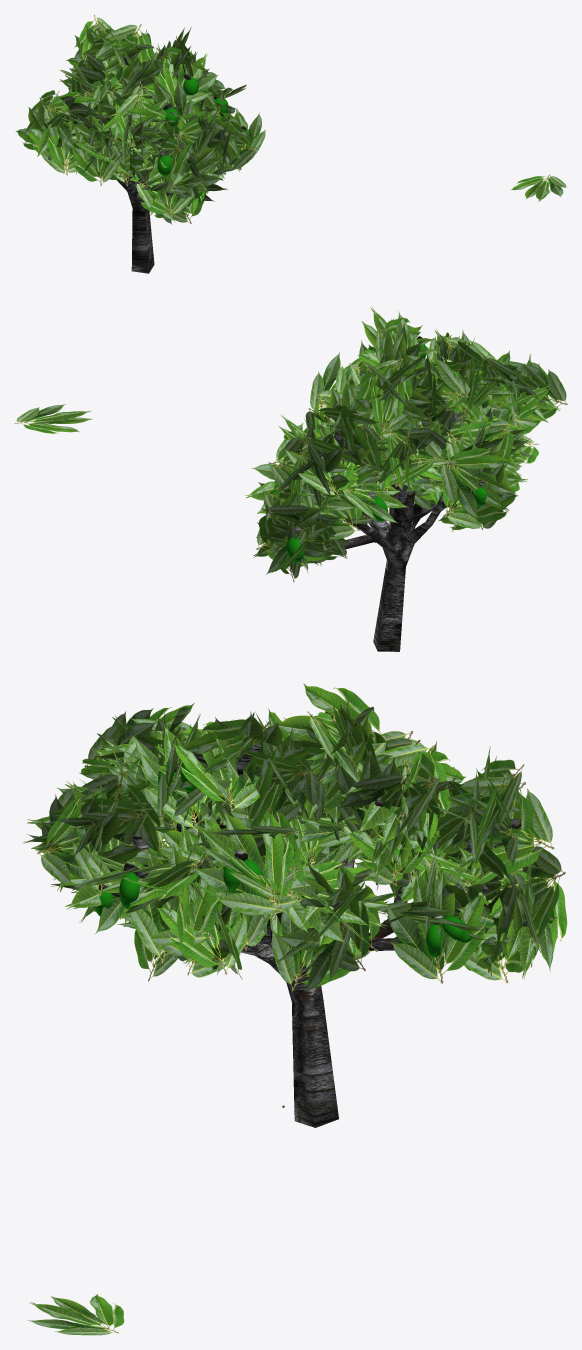
The model's file is mango_tree.glb.
The picture shows the model from 3 angles, top to bottom: view 1: azimuth 30°, elevation 25°; view 2: azimuth 150°, elevation 25°; view 3: azimuth 270°, elevation 25°; orthographic projection. The views are drawn at different scales.
Parts seen in each view (by area): view 1: ใบมะม่วง (×36), Cube; view 2: ใบมะม่วง (×44), Cube; view 3: ใบมะม่วง (×54), Cube.
Boxes of the visible parts, bbox=[...] form: ใบมะม่วง (×36): bbox=[15, 14, 566, 221]; Cube: bbox=[44, 55, 246, 273]; ใบมะม่วง (×44): bbox=[14, 306, 567, 574]; Cube: bbox=[294, 336, 488, 651]; ใบมะม่วง (×54): bbox=[23, 683, 567, 1335]; Cube: bbox=[98, 741, 527, 1127].
Size of what is drawn, in the model's own units: 30.59 by 15.69 by 17.8.
Materials: 17 (3 with a texture image).
